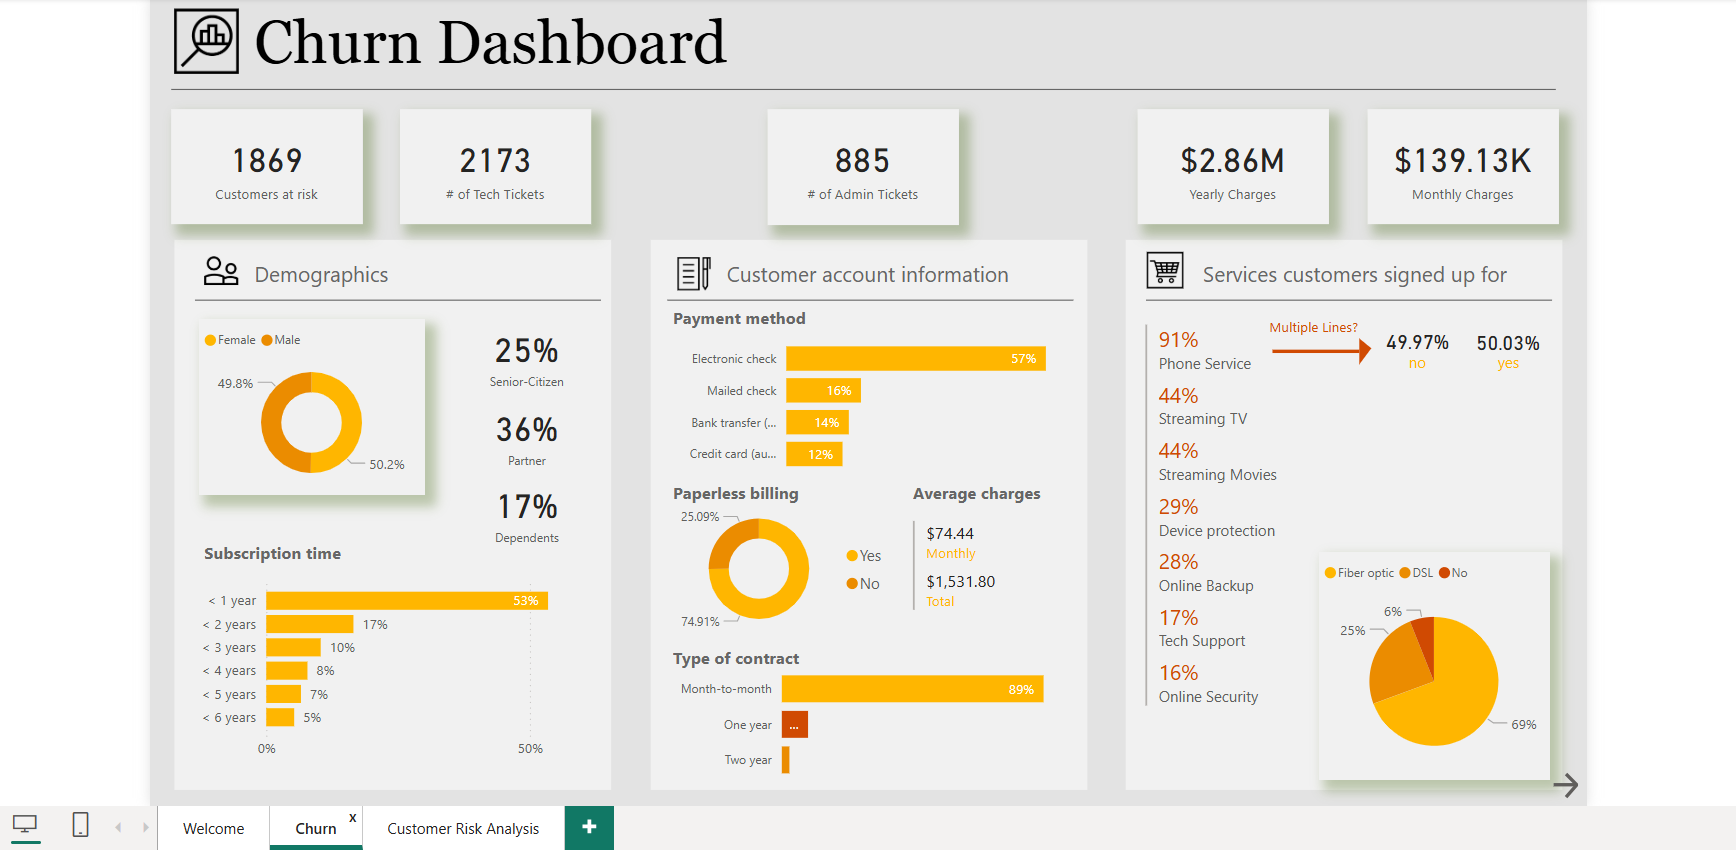

What the dashboard file says about the page in this screenshot:
{"tool":"powerbi","page":{"name":"Churn","canvas":[1280,720],"ordinal":1},"visuals":[{"type":"textbox","box":[87.7,4.9,1173.8,75],"z":0},{"type":"basicShape","box":[8.7,60.7,1253,40.5],"z":1000},{"type":"basicShape","box":[18.3,210,396.8,499.9],"z":2000},{"type":"card","fields":{"Values":["CountNonNull(churn.customerID)"]},"box":[18.5,99.4,170,102.3],"z":3000},{"type":"basicShape","box":[441.6,210,396.8,499.9],"z":4000},{"type":"basicShape","box":[864.9,210,396.8,499.9],"z":5000},{"type":"textbox","box":[508.5,228.6,314.9,35.6],"z":6000},{"type":"basicShape","box":[450.7,248.9,381.4,39.5],"z":7000},{"type":"image","box":[461.3,226.3,47.2,39.5],"z":8000},{"type":"textbox","box":[932.7,228.6,314.9,35.6],"z":9000},{"type":"basicShape","box":[877.4,248.9,381.4,39.5],"z":10000},{"type":"textbox","box":[88,228.6,314.9,35.6],"z":11000},{"type":"basicShape","box":[30.2,248.9,381.4,39.5],"z":12000},{"type":"image","box":[883.2,220.6,42.4,43.3],"z":13000},{"type":"image","box":[43.3,220.6,40.5,44.3],"z":14000},{"type":"donutChart","fields":{"Category":["churn.gender"],"Y":["CountNonNull(churn.gender)"]},"box":[43.8,286,201.3,156.6],"z":15000},{"type":"card","fields":{"Values":["churn.SeniorCitizen in %"]},"box":[271.4,268.7,128.1,100.2],"z":16000},{"type":"card","fields":{"Values":["churn.Partner in %"]},"box":[271.4,338.1,128.4,100.2],"z":17000},{"type":"card","fields":{"Values":["churn.Dependents in %"]},"box":[271.4,407.5,128.4,100.2],"z":18000},{"type":"clusteredBarChart","fields":{"Category":["churn.Contract"],"Y":["CountNonNull(churn.Contract)"]},"box":[461.3,577.9,370.8,131.9],"z":19000},{"type":"clusteredBarChart","fields":{"Y":["CountNonNull(churn.PaymentMethod)"],"Category":["churn.PaymentMethod"]},"box":[461.3,286,370.8,148.3],"z":20000},{"type":"textbox","box":[461.3,269.7,314.9,35.6],"z":21000},{"type":"textbox","box":[461.3,424.7,204.2,35.6],"z":22000},{"type":"donutChart","fields":{"Category":["churn.PaperlessBilling"],"Y":["CountNonNull(churn.PaperlessBilling)"]},"box":[461.3,438.2,204.2,139.7],"z":23000},{"type":"multiRowCard","fields":{"Values":["Avg(churn.MonthlyCharges)","Avg(churn.TotalCharges)"]},"box":[674.2,460.4,149.3,95.3],"z":24000},{"type":"textbox","box":[461.3,572.1,314.9,35.6],"z":25000},{"type":"pieChart","fields":{"Category":["churn.InternetService"],"Y":["Divide(CountNonNull(churn.InternetService), ScopedEval(CountNonNull(churn.InternetService), []))"]},"box":[1040.4,492.9,205.5,203.6],"z":26000},{"type":"card","fields":{"Values":["churn.Multiple Lines in %"]},"box":[1172.8,276.4,72.2,62.6],"z":27000},{"type":"card","fields":{"Values":["churn.Multiple lines no in %"]},"box":[1093.1,276.4,72.2,61.6],"z":28000},{"type":"textbox","box":[971.7,278.2,129.4,27.2],"z":29000},{"type":"textbox","box":[1092.2,311,73.2,35.6],"z":30000},{"type":"textbox","box":[1172.8,311,73.2,35.6],"z":31000},{"type":"textbox","box":[674.2,424.7,148.3,35.6],"z":32000},{"type":"multiRowCard","fields":{"Values":["churn.Phone Service in %","churn.Streaming TV in %","churn.Streaming Movies in %","churn.Device protection in %","churn.Online Bacup in %","churn.Tech Support in %","churn.Online Sec. in %"]},"box":[882.2,286,165.3,414.3],"z":33000},{"type":"basicShape","box":[990.2,300.5,97.3,28.2],"z":34000},{"type":"basicShape","box":[1063.1,296.7,37.9,32.1],"z":35000},{"type":"clusteredBarChart","fields":{"Y":["CountNonNull(churn.Churn)"],"Category":["churn.Loyalty"]},"box":[37,507.7,365.7,179],"z":36000},{"type":"textbox","box":[43.8,478.5,314.2,35],"z":37000},{"type":"actionButton","box":[1244.6,682,31.6,38.4],"z":39000},{"type":"image","box":[16.6,4.9,67.2,68.2],"z":40000},{"type":"card","fields":{"Values":["Sum(churn.MonthlyCharges)"]},"box":[1083.9,99.4,170,102.3],"z":41000},{"type":"card","fields":{"Values":["Sum(churn.numTechTickets)"]},"box":[222.8,99.4,170,102.3],"z":44000},{"type":"card","fields":{"Values":["Sum(churn.numAdminTickets)"]},"box":[550.3,98.8,170.2,102.9],"z":45000},{"type":"card","fields":{"Values":["Sum(churn.TotalCharges)"]},"box":[879.7,99.4,170,102.3],"z":46000}]}

Visuals, with their boxes on the page's 1280x720 design canvas (x1, y1, x2, y2). These are canvas units, not pixel positions in the 1736x850 screenshot, which may show the page scaled, cropped or inside an application window:
textbox: rect(88, 5, 1262, 80)
basicShape: rect(9, 61, 1262, 101)
basicShape: rect(18, 210, 415, 710)
card - CountNonNull(churn.customerID): rect(18, 99, 188, 202)
basicShape: rect(442, 210, 838, 710)
basicShape: rect(865, 210, 1262, 710)
textbox: rect(508, 229, 823, 264)
basicShape: rect(451, 249, 832, 288)
image: rect(461, 226, 508, 266)
textbox: rect(933, 229, 1248, 264)
basicShape: rect(877, 249, 1259, 288)
textbox: rect(88, 229, 403, 264)
basicShape: rect(30, 249, 412, 288)
image: rect(883, 221, 926, 264)
image: rect(43, 221, 84, 265)
donutChart - churn.gender x CountNonNull(churn.gender): rect(44, 286, 245, 443)
card - churn.SeniorCitizen in %: rect(271, 269, 400, 369)
card - churn.Partner in %: rect(271, 338, 400, 438)
card - churn.Dependents in %: rect(271, 408, 400, 508)
clusteredBarChart - churn.Contract x CountNonNull(churn.Contract): rect(461, 578, 832, 710)
clusteredBarChart - CountNonNull(churn.PaymentMethod) x churn.PaymentMethod: rect(461, 286, 832, 434)
textbox: rect(461, 270, 776, 305)
textbox: rect(461, 425, 666, 460)
donutChart - churn.PaperlessBilling x CountNonNull(churn.PaperlessBilling): rect(461, 438, 666, 578)
multiRowCard - Avg(churn.MonthlyCharges) x Avg(churn.TotalCharges): rect(674, 460, 824, 556)
textbox: rect(461, 572, 776, 608)
pieChart - churn.InternetService x Divide(CountNonNull(churn.InternetService), ScopedEval(CountNonNull(churn.InternetService), [])): rect(1040, 493, 1246, 696)
card - churn.Multiple Lines in %: rect(1173, 276, 1245, 339)
card - churn.Multiple lines no in %: rect(1093, 276, 1165, 338)
textbox: rect(972, 278, 1101, 305)
textbox: rect(1092, 311, 1165, 347)
textbox: rect(1173, 311, 1246, 347)
textbox: rect(674, 425, 822, 460)
multiRowCard - churn.Phone Service in % x churn.Streaming TV in %: rect(882, 286, 1048, 700)
basicShape: rect(990, 300, 1088, 329)
basicShape: rect(1063, 297, 1101, 329)
clusteredBarChart - CountNonNull(churn.Churn) x churn.Loyalty: rect(37, 508, 403, 687)
textbox: rect(44, 478, 358, 514)
actionButton: rect(1245, 682, 1276, 720)
image: rect(17, 5, 84, 73)
card - Sum(churn.MonthlyCharges): rect(1084, 99, 1254, 202)
card - Sum(churn.numTechTickets): rect(223, 99, 393, 202)
card - Sum(churn.numAdminTickets): rect(550, 99, 720, 202)
card - Sum(churn.TotalCharges): rect(880, 99, 1050, 202)
